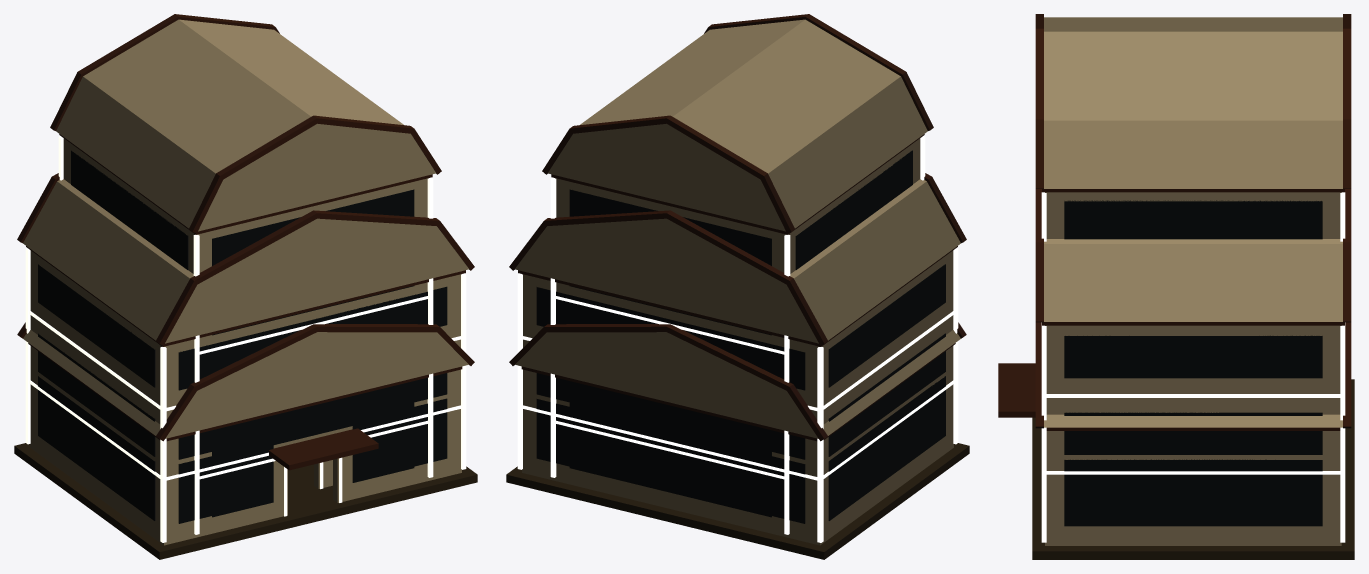
Rendered from shaddai_realm_town_meadow_v01.glb.
3 renders of one model, left to right at view 1: azimuth 30°, elevation 25°; view 2: azimuth 150°, elevation 25°; view 3: azimuth 270°, elevation 25°, orthographic. The views are drawn at different scales.
Visible parts, largest first — view 1: shaddai_bld_meadow_inn, shaddai_bld_meadow_apartments, shaddai_bld_meadow_workshop, shaddai_bld_meadow_home; view 2: shaddai_bld_meadow_inn, shaddai_bld_meadow_apartments, shaddai_bld_meadow_workshop; view 3: shaddai_bld_meadow_inn, shaddai_bld_meadow_apartments, shaddai_bld_meadow_workshop.
Part boxes in pixels (<box>): shaddai_bld_meadow_inn: <box>14,173,477,559</box>; shaddai_bld_meadow_apartments: <box>50,14,444,551</box>; shaddai_bld_meadow_workshop: <box>17,322,474,544</box>; shaddai_bld_meadow_home: <box>269,429,359,501</box>; shaddai_bld_meadow_inn: <box>506,173,969,559</box>; shaddai_bld_meadow_apartments: <box>539,14,933,551</box>; shaddai_bld_meadow_workshop: <box>509,322,966,544</box>; shaddai_bld_meadow_inn: <box>1032,189,1354,559</box>; shaddai_bld_meadow_apartments: <box>998,14,1354,533</box>; shaddai_bld_meadow_workshop: <box>1035,322,1351,545</box>.
Size of the model in its own units: 19.2 by 23.18 by 16.8.
